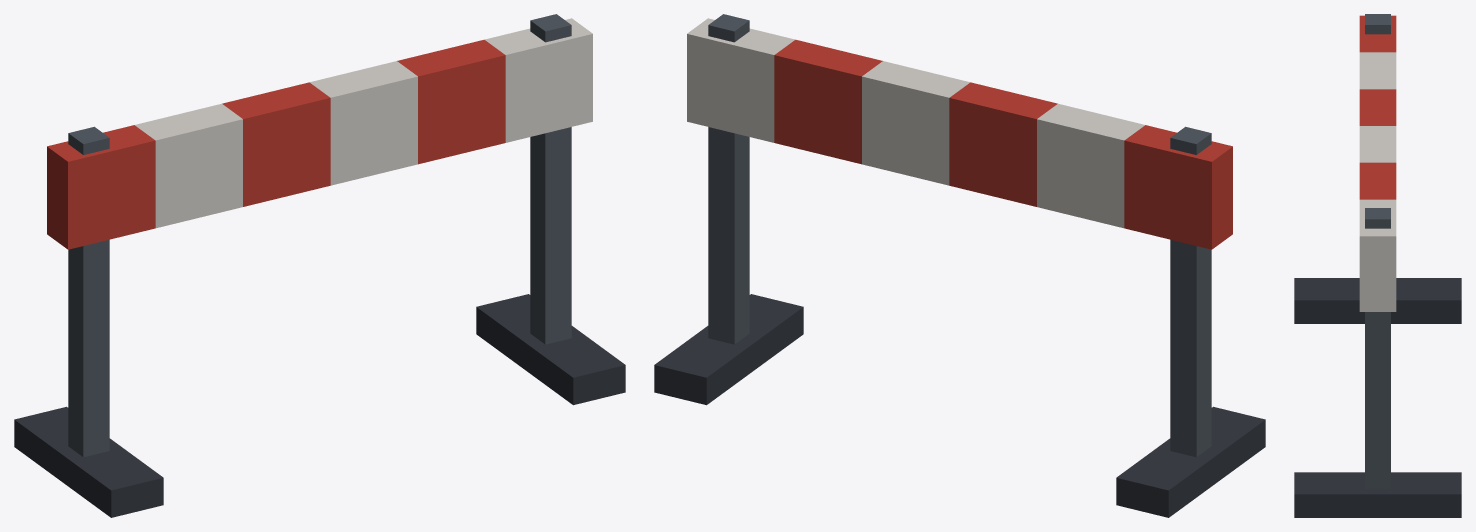
The model's file is v2-barrier.glb.
3 views of the same model, side by side, from view 1: azimuth 30°, elevation 25°; view 2: azimuth 150°, elevation 25°; view 3: azimuth 270°, elevation 25° (orthographic). The views are drawn at different scales.
Visible parts, largest first — view 1: v2-barrier; view 2: v2-barrier; view 3: v2-barrier.
Part boxes in pixels (x1=…): v2-barrier: x1=14, y1=14, x2=625, y2=517; v2-barrier: x1=654, y1=14, x2=1265, y2=517; v2-barrier: x1=1294, y1=14, x2=1461, y2=517.
Size of the model in its own units: 1 by 0.62 by 0.32.
